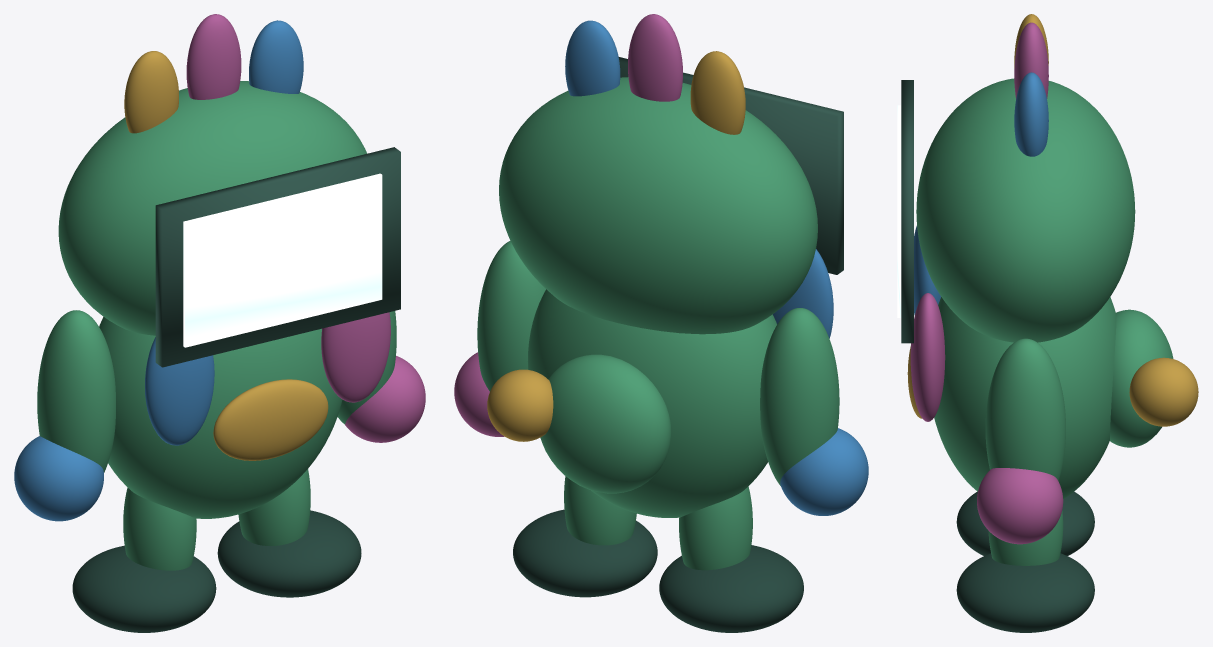
Rendered from chroma.glb.
The picture shows the model from 3 angles, left to right: view 1: azimuth 30°, elevation 25°; view 2: azimuth 150°, elevation 25°; view 3: azimuth 270°, elevation 25°; orthographic projection. The views are drawn at different scales.
Parts seen in each view (by area): view 1: head, face_screen, body, face_frame, arm_L, foot_L, foot_R, patch_chest, hand_L, patch_L, patch_R, leg_L (+6 smaller); view 2: head, body, tail_base, arm_L, foot_L, face_frame, foot_R, arm_R, hand_L, leg_L, crest_1, tail_tip (+5 smaller); view 3: head, body, arm_R, foot_R, hand_R, tail_base, tail_tip, patch_R, face_frame, foot_L, crest_2, leg_R (+3 smaller).
Part boxes in pixels (x1,y1,x2,y2): head: [58, 81, 366, 335]; face_screen: [183, 173, 382, 347]; body: [99, 316, 342, 518]; face_frame: [155, 147, 400, 367]; arm_L: [37, 310, 115, 472]; foot_L: [72, 545, 216, 632]; foot_R: [217, 510, 361, 597]; patch_chest: [213, 379, 328, 460]; hand_L: [14, 436, 103, 521]; patch_L: [145, 337, 214, 445]; patch_R: [321, 312, 390, 402]; leg_L: [123, 487, 196, 570]; head: [499, 77, 817, 334]; body: [527, 289, 776, 517]; tail_base: [540, 354, 671, 493]; arm_L: [760, 308, 839, 485]; foot_L: [659, 545, 803, 632]; face_frame: [618, 57, 843, 274]; foot_R: [513, 509, 657, 597]; arm_R: [477, 240, 545, 391]; hand_L: [780, 428, 868, 515]; leg_L: [679, 486, 752, 570]; crest_1: [628, 14, 682, 101]; tail_tip: [487, 369, 553, 441]; head: [916, 78, 1135, 342]; body: [934, 297, 1116, 498]; arm_R: [985, 338, 1065, 480]; foot_R: [956, 553, 1094, 632]; hand_R: [977, 468, 1063, 544]; tail_base: [1110, 309, 1173, 447]; tail_tip: [1129, 357, 1198, 426]; patch_R: [910, 293, 945, 421]; face_frame: [901, 80, 913, 343]; foot_L: [956, 491, 1094, 555]; crest_2: [1014, 72, 1048, 156]; leg_R: [988, 510, 1063, 565].
Bounding box in the file's own units: 0.77 × 1.08 × 0.523.
